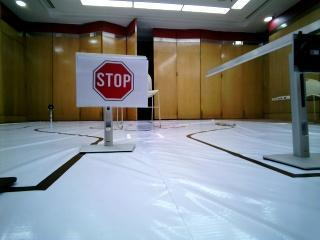stop: (76, 53, 143, 105)
